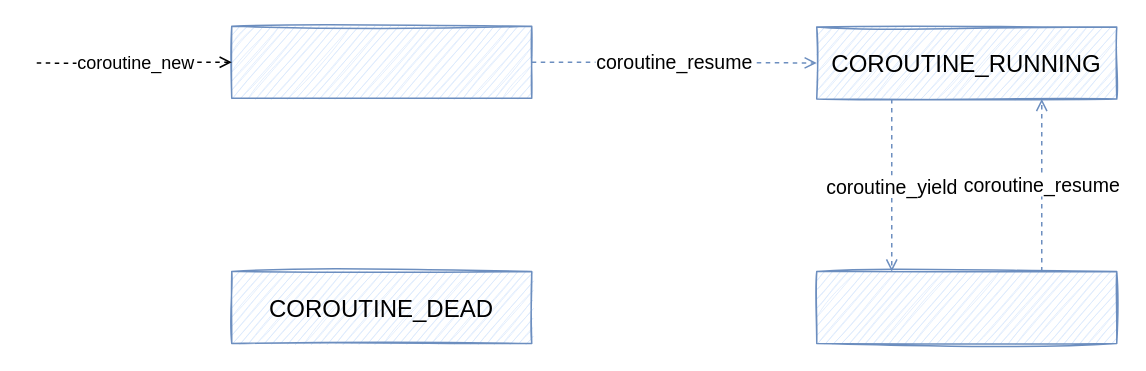
Image size: 1146x371. Some labels were removed from this diagram. Here are the shapes that lost their labels. From the top down, the box of each, then its label:
(230, 25, 532, 98): COROUTINE_READY
(815, 270, 1117, 344): COROUTINE_SUSPEND
